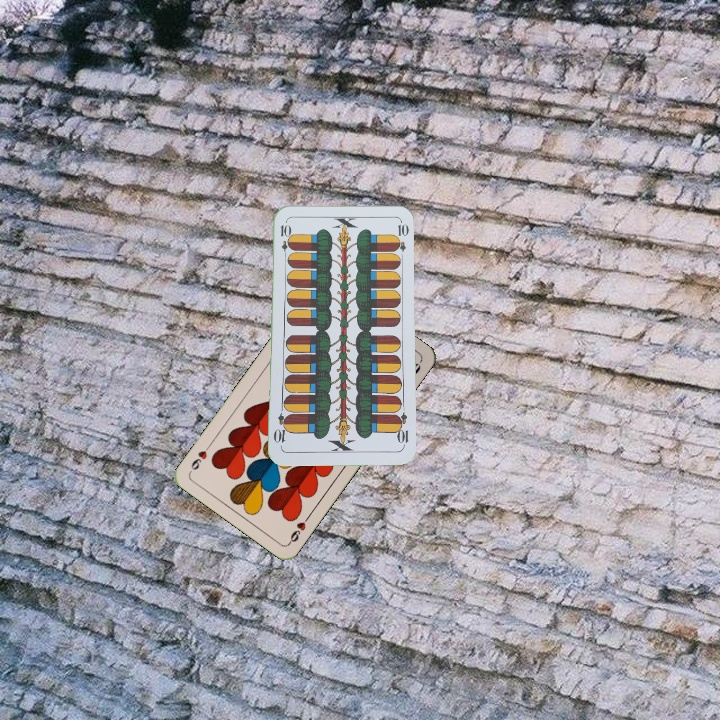E10: (392, 409, 411, 449), (277, 221, 290, 261)
H9: (285, 511, 313, 546)
